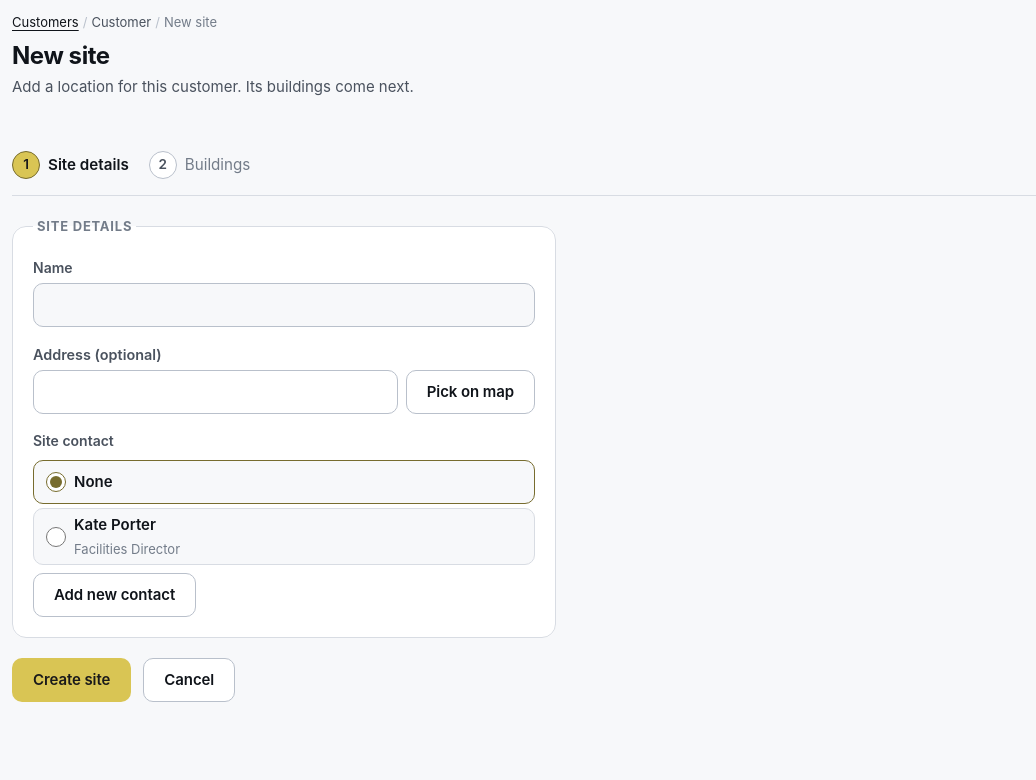
Test case: SiteWizard › includes the pinned coordinates in the create payload after a selection
This screenshot has width=1036, height=780.
Type "Head Office" into the field labelled "Name".
click(284, 305); type("Head Office")  # box x1=33 y1=283 x2=535 y2=327
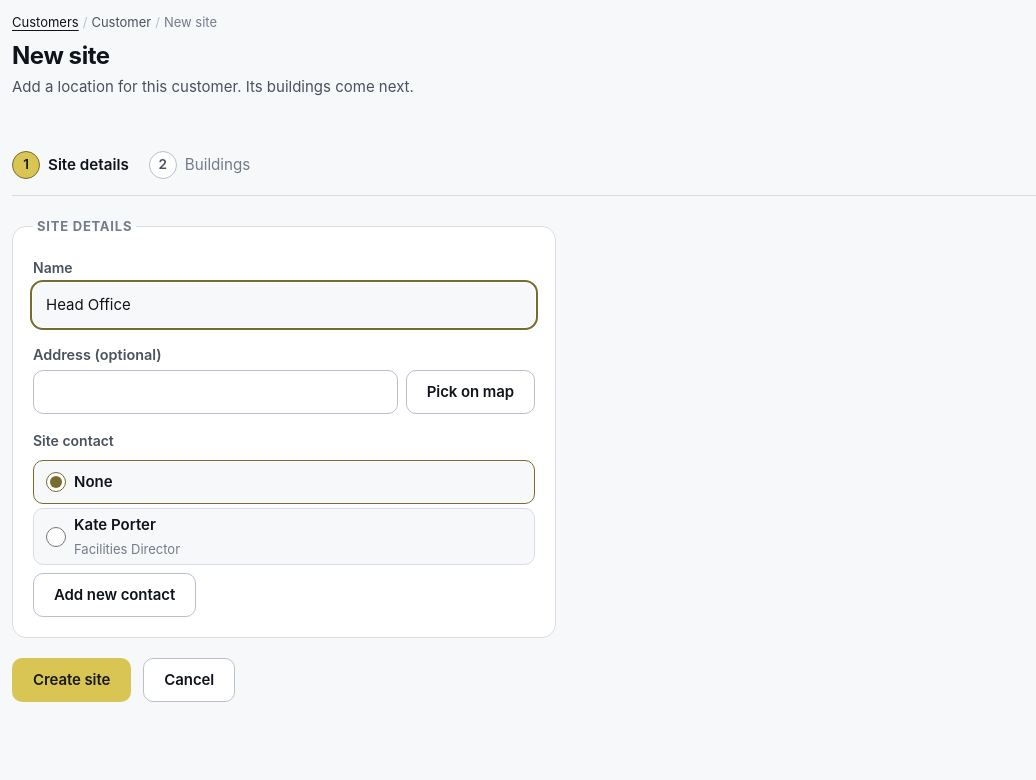
Type "10 Downing" into the dropdown labelled "Address (optional)".
click(215, 392); type("10 Downing")  # box x1=33 y1=370 x2=398 y2=414
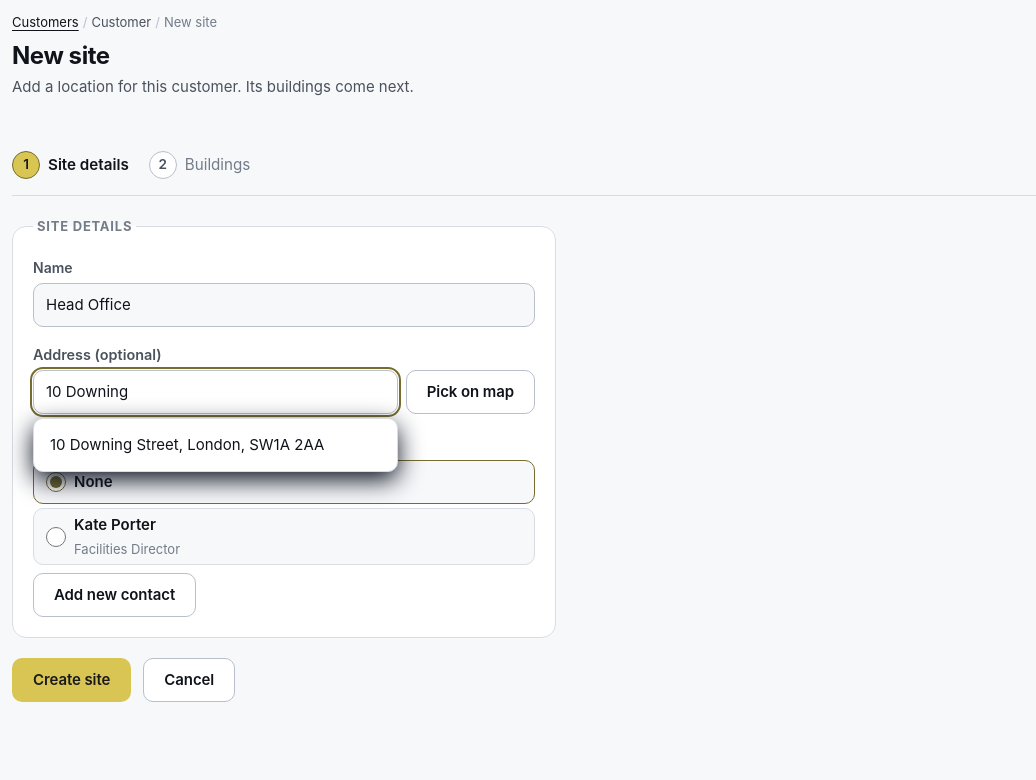
Click the option "10 Downing Street, London, SW1A 2AA".
click(187, 444)  # box x1=50 y1=435 x2=324 y2=454
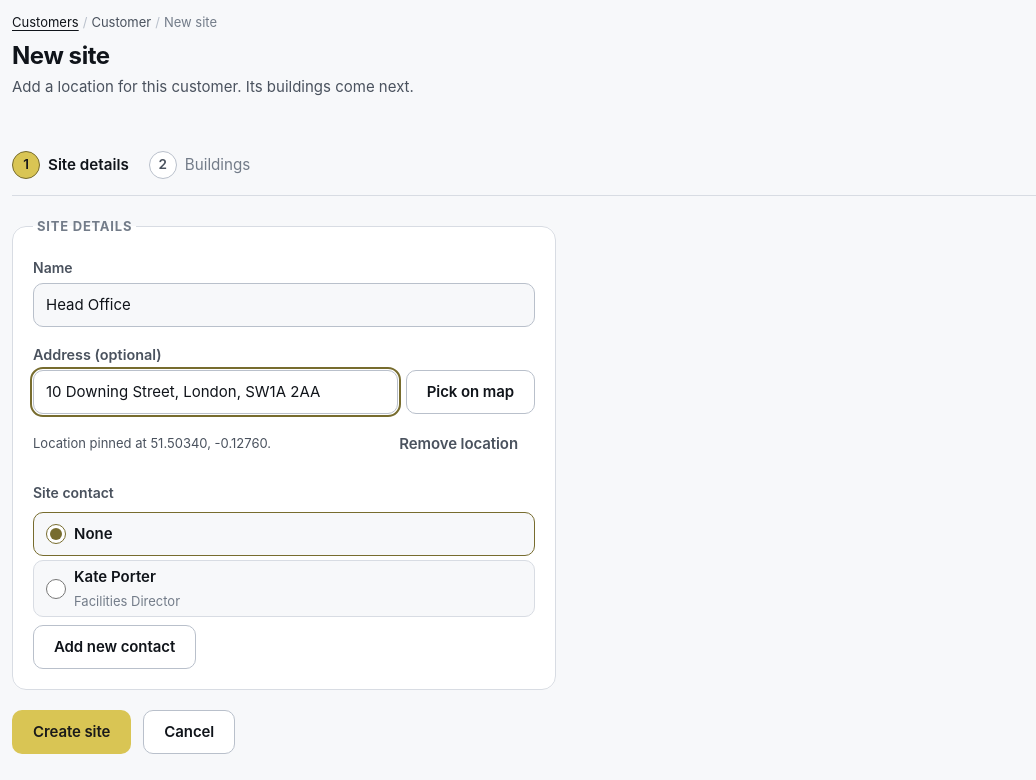
Check: the text "Location pinned at 51.50340, -0.12760." is shown, box x1=33 y1=435 x2=271 y2=451
Click the button "Create site".
click(72, 732)  # box x1=12 y1=710 x2=131 y2=754
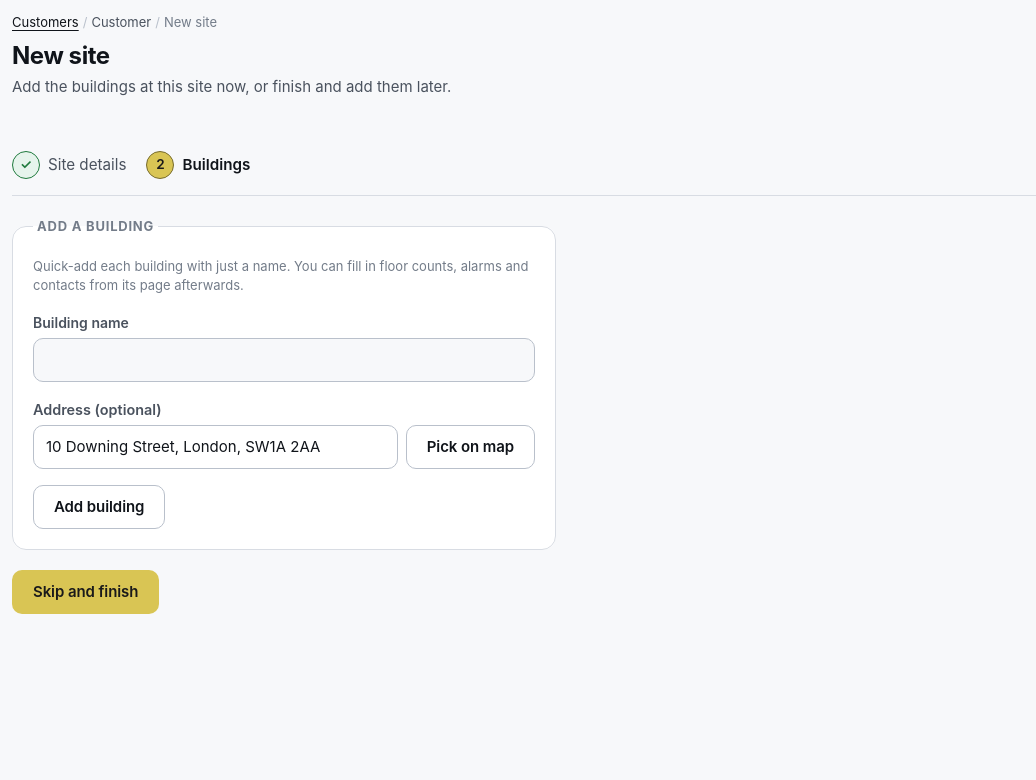
Check: the field labelled "Building name" is shown, box x1=33 y1=338 x2=535 y2=382
Check: the dropdown labelled "Address (optional)" holds "10 Downing Street, London, SW1A 2AA", box x1=33 y1=425 x2=398 y2=469
